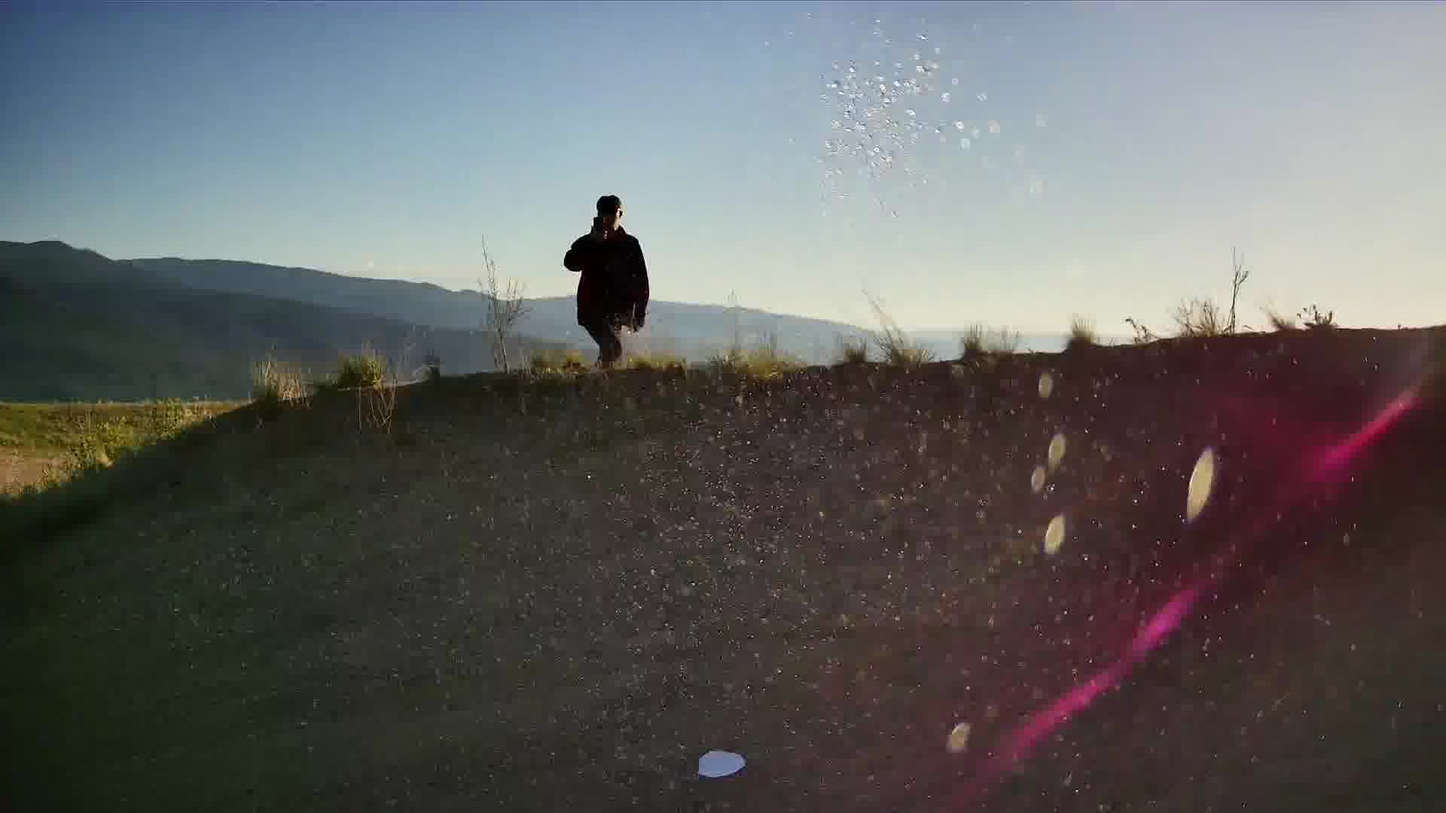Target: (698, 748, 745, 779)
